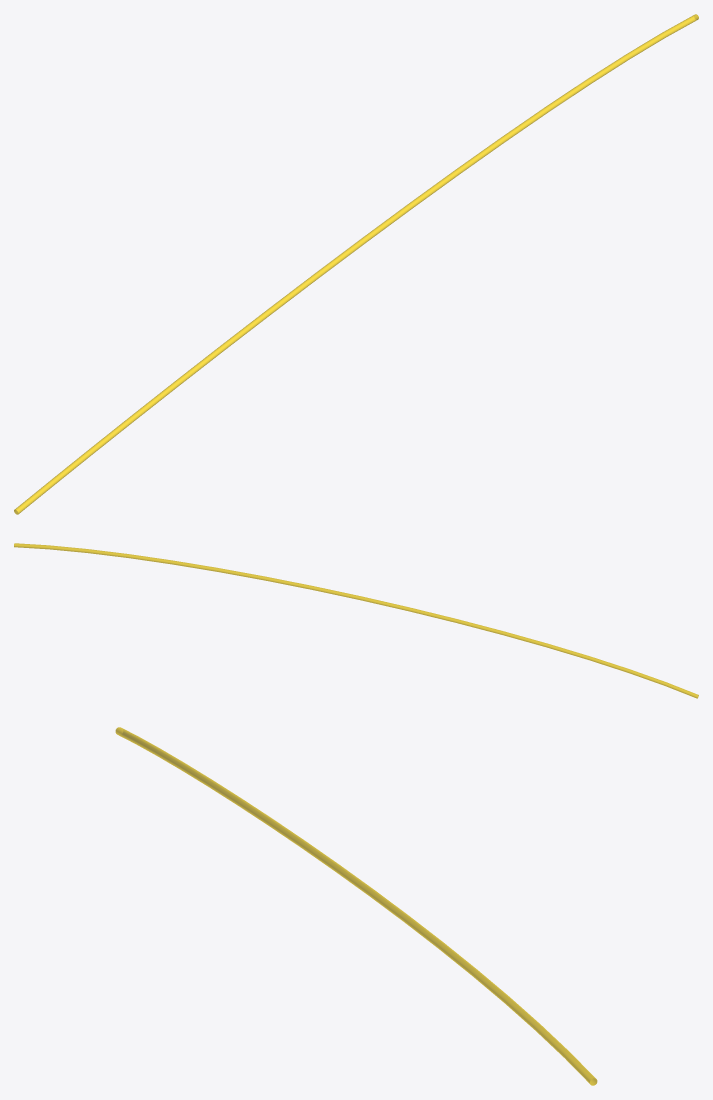
Rendered from Event_75125125_track_5.fbx.
3 renders of one model, top to bottom at view 1: azimuth 30°, elevation 25°; view 2: azimuth 150°, elevation 25°; view 3: azimuth 270°, elevation 25°, orthographic. The views are drawn at different scales.
Parts seen in each view (by area): view 1: Model; view 2: Model; view 3: Model.
Part boxes in pixels (box(x1,y1,x2,y2)): Model: box(14, 14, 698, 514); Model: box(14, 543, 698, 698); Model: box(115, 727, 597, 1085).
Size of the model in its own units: 6.41 by 1.13 by 2.36.
